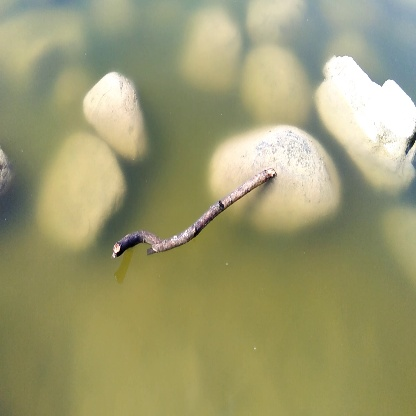branch: (107, 168, 282, 268)
